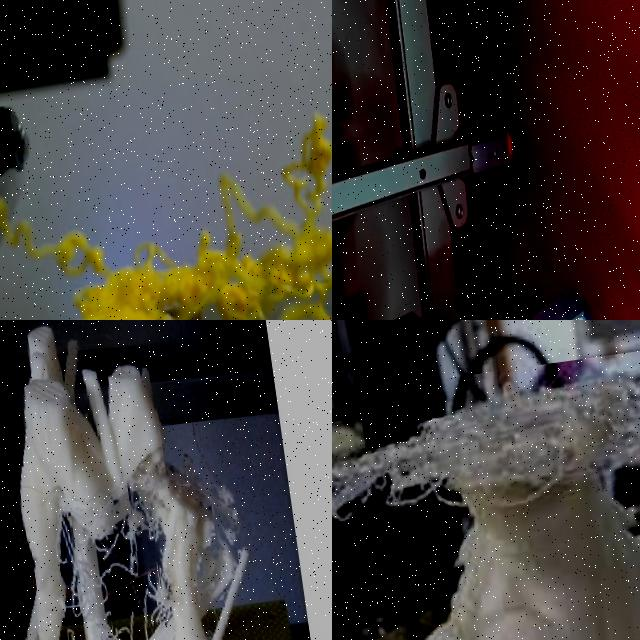spaghetti: (332, 338, 640, 602), (0, 126, 332, 320), (100, 528, 170, 640)
